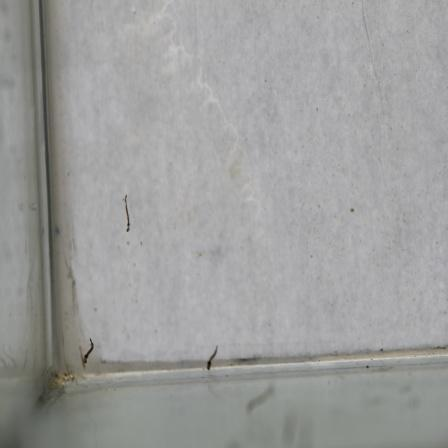Jentik-Nyamuk: (119, 190, 135, 236), (79, 334, 97, 370), (204, 345, 223, 373)
